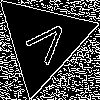V: (18, 16, 73, 73)
